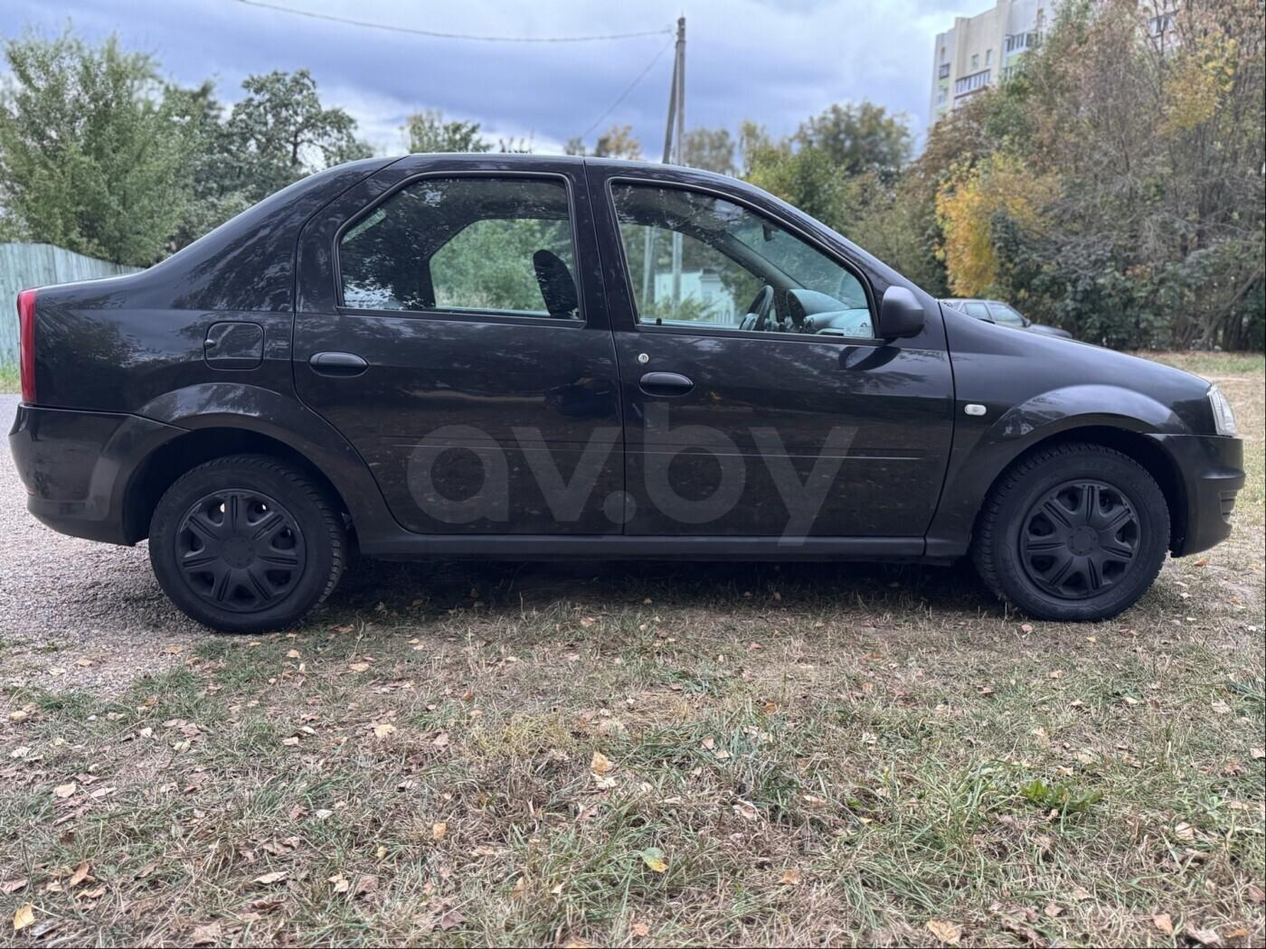Logan_2008-2015: (10, 142, 1253, 624)
